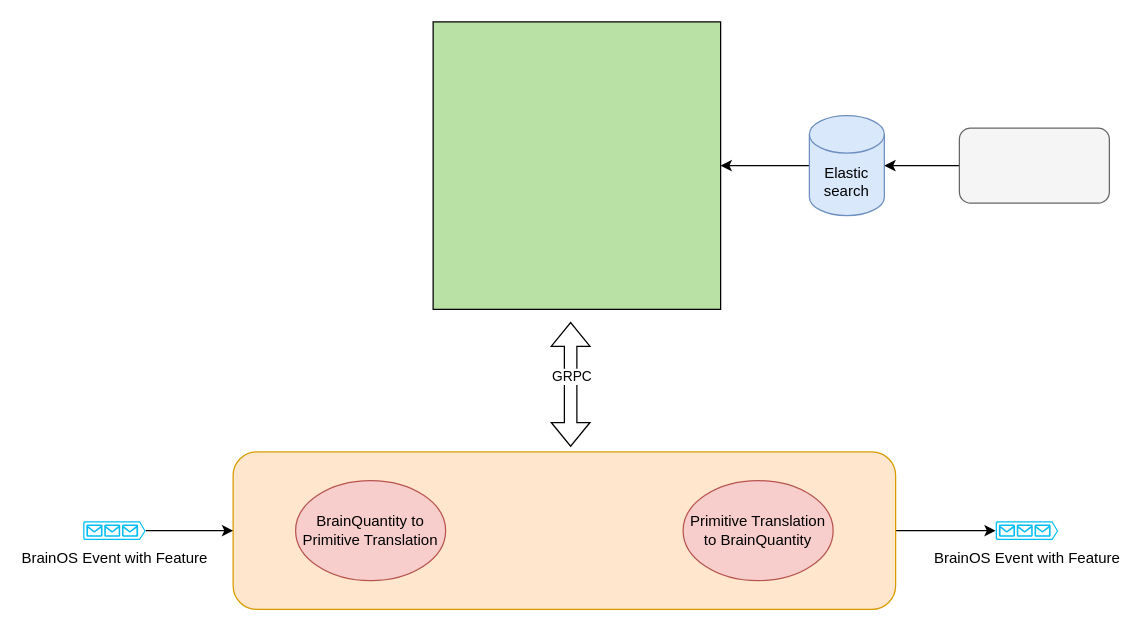
Image size: 1141x631. Some labels were removed from this diagram. The box of each missing label's shape, as (x1, y1, x2, y2) in pixels:
Brain UI Workbench: (958, 127, 1109, 203)
Rule Bridge: (232, 451, 896, 609)
Rule Engine Service: (432, 21, 721, 309)
